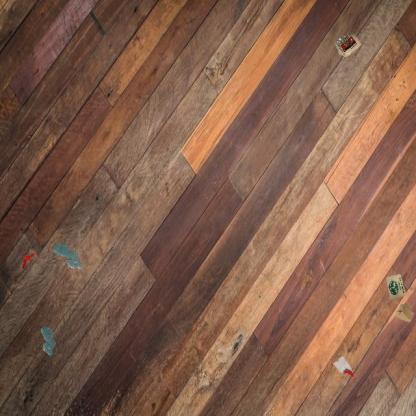dirty: (332, 33, 362, 58), (384, 272, 408, 301), (331, 354, 355, 380), (394, 300, 416, 324), (21, 250, 34, 270)
liquid: (52, 242, 82, 270), (39, 325, 57, 356)
